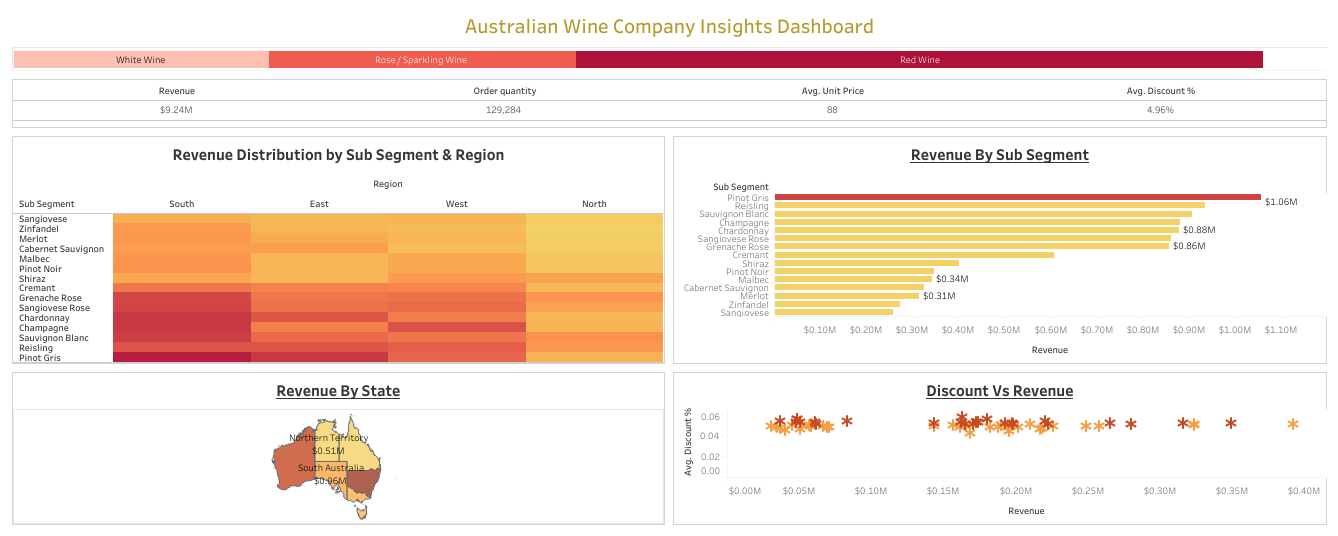

This screenshot's page, from the dashboard's own definition file:
{"tool":"tableau","page":{"name":"Dashboard 1","canvas":[1000,1000],"units":"permille","ordinal":0},"visuals":[{"type":"title","box":[6.9,13.5,986.1,57.4]},{"type":"worksheet","title":"Header","mark":"Automatic","cols":["Calculation_808396139505565699"],"box":[6.9,70.9,986.1,60.8]},{"type":"worksheet","title":"KPI ","mark":"Automatic","box":[6.9,131.8,986.1,106.2]},{"type":"worksheet","title":"Revenue Distribution by Sub Segment & Region","mark":"Automatic","rows":["Sub Segment"],"cols":["Region"],"box":[6.9,237.9,493,446.1]},{"type":"worksheet","title":"Revenue By Sub Segment","mark":"Automatic","rows":["Sub Segment"],"cols":["Revenue"],"box":[499.9,237.9,493.1,446.1]},{"type":"worksheet","title":"Revenue By State","mark":"Automatic","box":[6.9,684.1,493,302.4]},{"type":"worksheet","title":"Discount Vs Revenue","mark":"Automatic","rows":["Discount %"],"cols":["Revenue"],"box":[499.9,684.1,493.1,302.4]}]}

Visuals, with their boxes on the dashboard's canvas, which has no fixed pixel size, in thousandths of its width and height (x1, y1, x2, y2). These are canvas units, not pixel positions in the 1338x536 screenshot, which may show the page scaled, cropped or inside an application window:
title: crop(7, 14, 993, 71)
"Header" worksheet: crop(7, 71, 993, 132)
"KPI " worksheet: crop(7, 132, 993, 238)
"Revenue Distribution by Sub Segment & Region" worksheet: crop(7, 238, 500, 684)
"Revenue By Sub Segment" worksheet: crop(500, 238, 993, 684)
"Revenue By State" worksheet: crop(7, 684, 500, 986)
"Discount Vs Revenue" worksheet: crop(500, 684, 993, 986)
